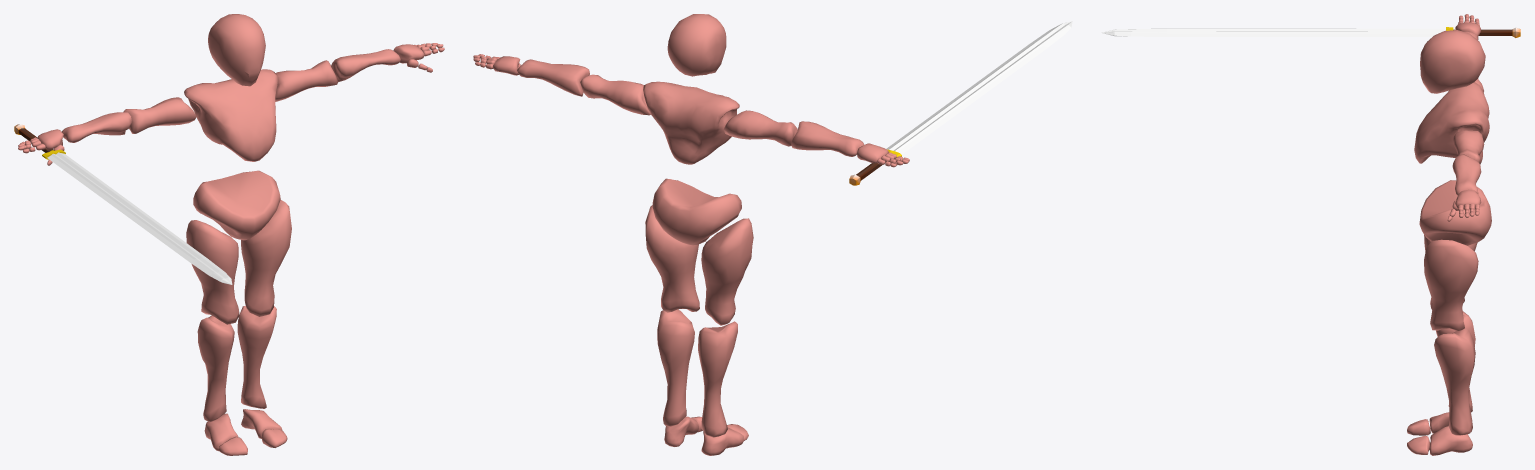
The model's file is Model_Sword_OwnRig.fbx.
The picture shows the model from 3 angles, left to right: view 1: azimuth 30°, elevation 25°; view 2: azimuth 150°, elevation 25°; view 3: azimuth 270°, elevation 25°; orthographic projection. The views are drawn at different scales.
Parts seen in each view (by area): view 1: Beta_Surface, Sword; view 2: Beta_Surface, Sword; view 3: Beta_Surface, Sword.
Part boxes in pixels (left/top/right/bottom): Beta_Surface: left=18, top=14, right=444, bottom=455; Sword: left=14, top=124, right=232, bottom=284; Beta_Surface: left=473, top=14, right=909, bottom=455; Sword: left=849, top=21, right=1072, bottom=185; Beta_Surface: left=1407, top=14, right=1491, bottom=455; Sword: left=1101, top=27, right=1520, bottom=37.
Size of the model in its own units: 180 by 170 by 158.
